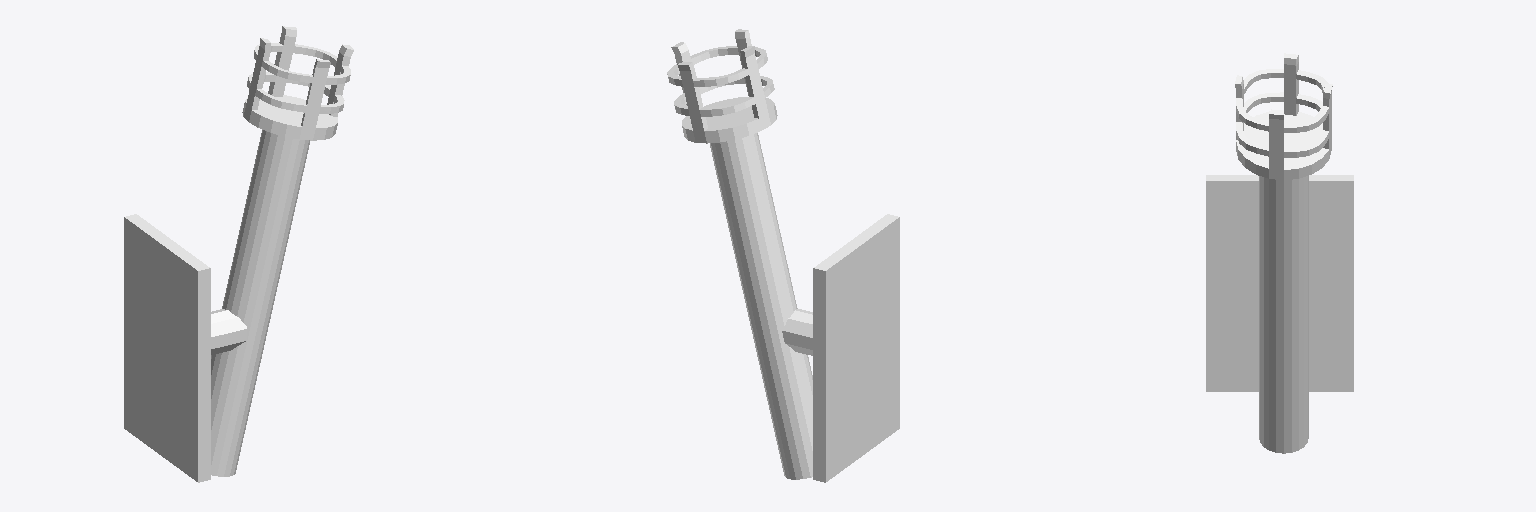
File: Torch.obj
3 renders of one model, left to right at view 1: azimuth 30°, elevation 25°; view 2: azimuth 150°, elevation 25°; view 3: azimuth 270°, elevation 25°, orthographic.
Visible parts, largest first — view 1: Torch; view 2: Torch; view 3: Torch.
Boxes of the visible parts, <box> form: Torch: <box>124,26,353,482</box>; Torch: <box>667,29,899,482</box>; Torch: <box>1206,53,1353,453</box>.
Size of the model in its own units: 4.76 by 9.99 by 3.22.